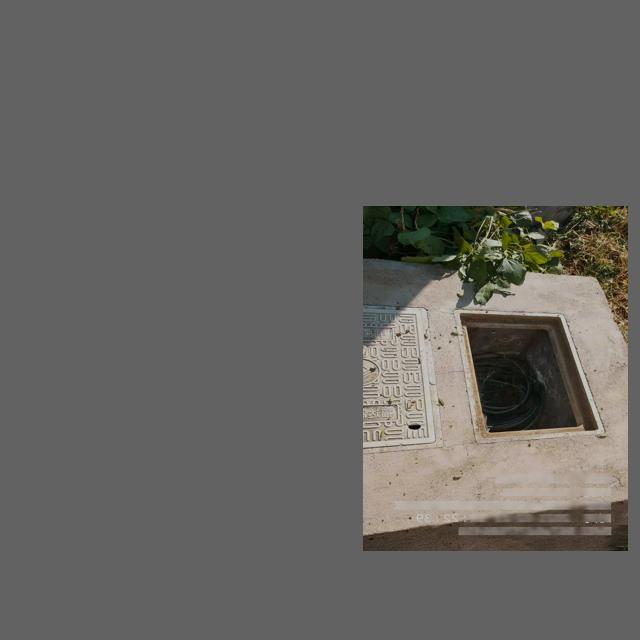lose: (455, 308, 606, 444)
